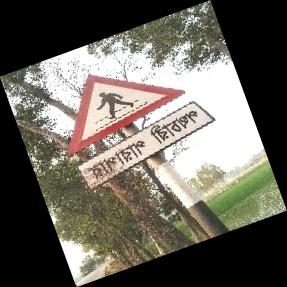Pedestrian-crossing: (66, 73, 215, 192)
